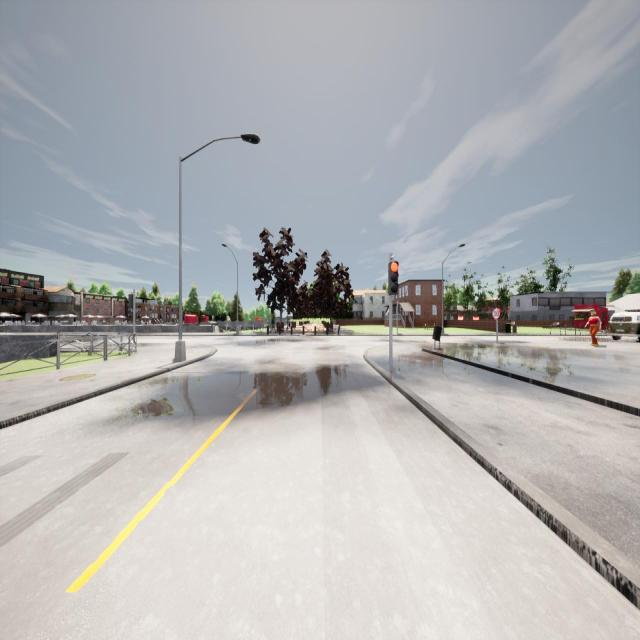Pedestrian: (585, 308, 601, 346), (270, 316, 276, 333)
Traffic_Signs: (492, 308, 502, 319)
Vehicle: (609, 312, 640, 342)
traffic_light: (389, 261, 399, 295), (128, 294, 134, 309)
